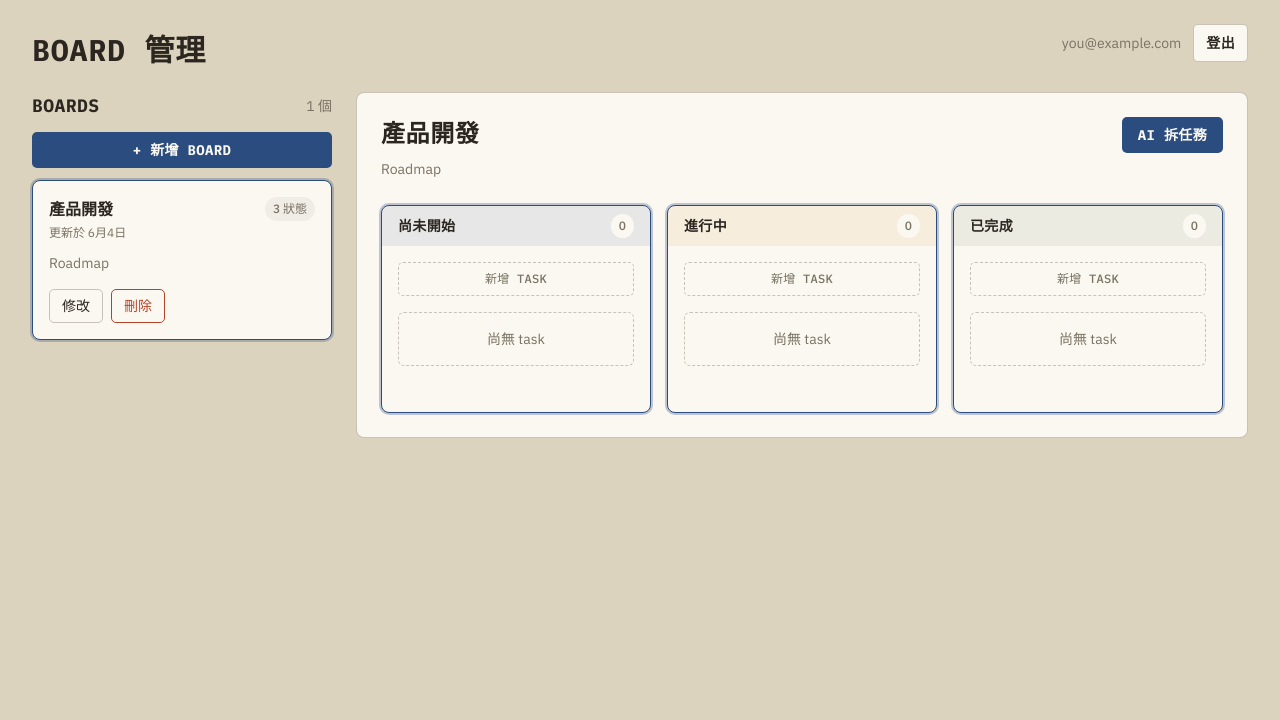
Test: BoardPage integration › updates a board in the UI and local storage
Expected: the 1st heading "產品開發" is shown, 381,117 -> 479,149
Click the button "修改": [76, 306] box 49,289 -> 103,323
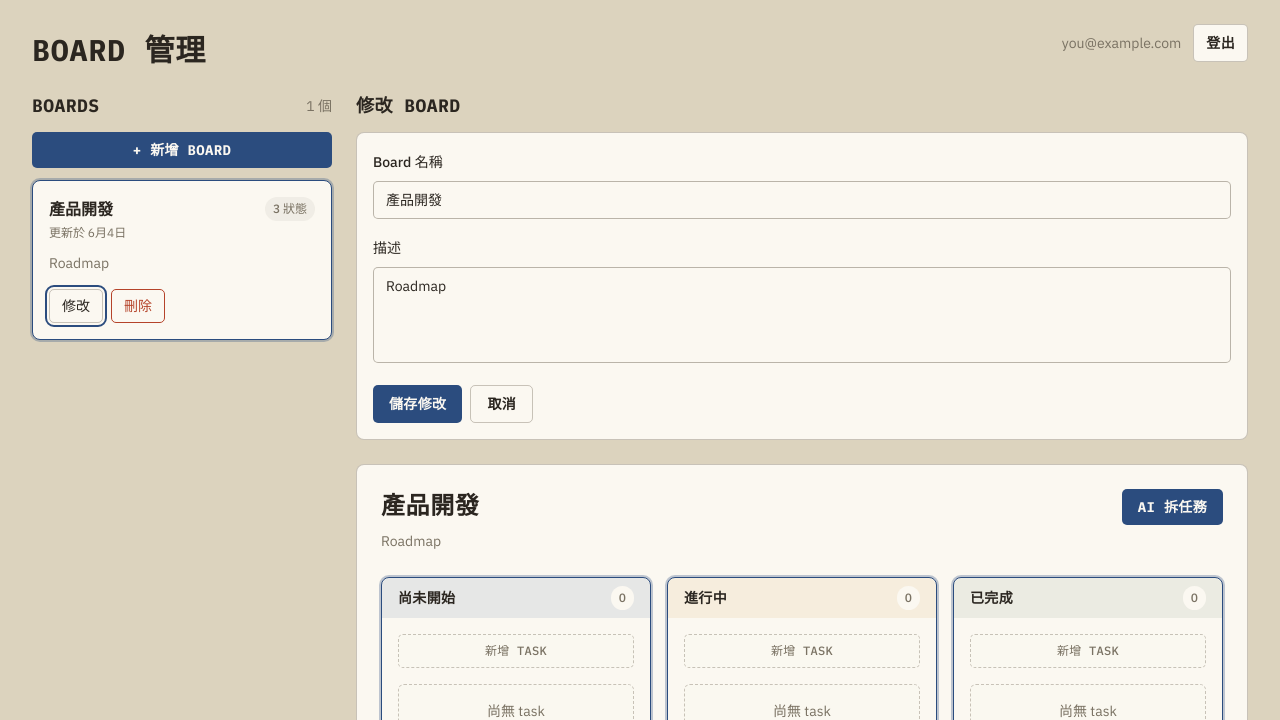
Replace the text in the field labelled "Board 名稱" with "產品開發 v2": [802, 200] box 373,181 -> 1231,219
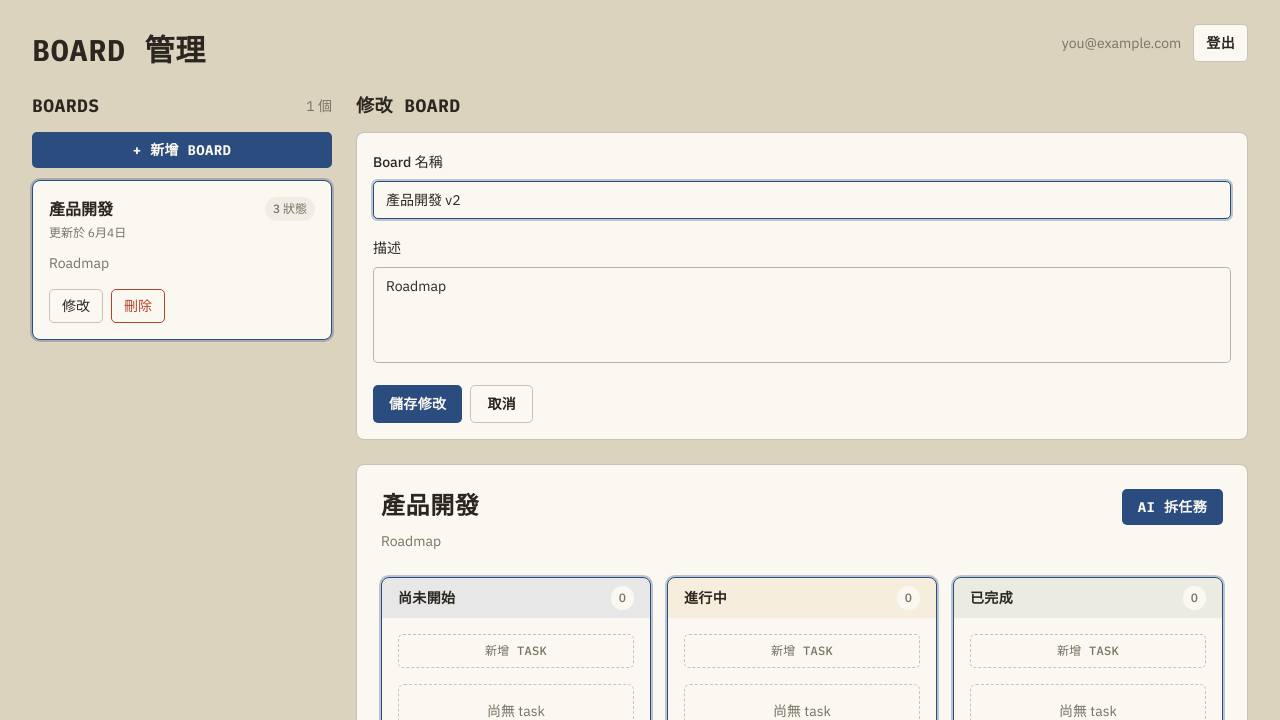
Replace the text in the text box labelled "描述" with "更新後的描述": [802, 315] box 373,267 -> 1231,363
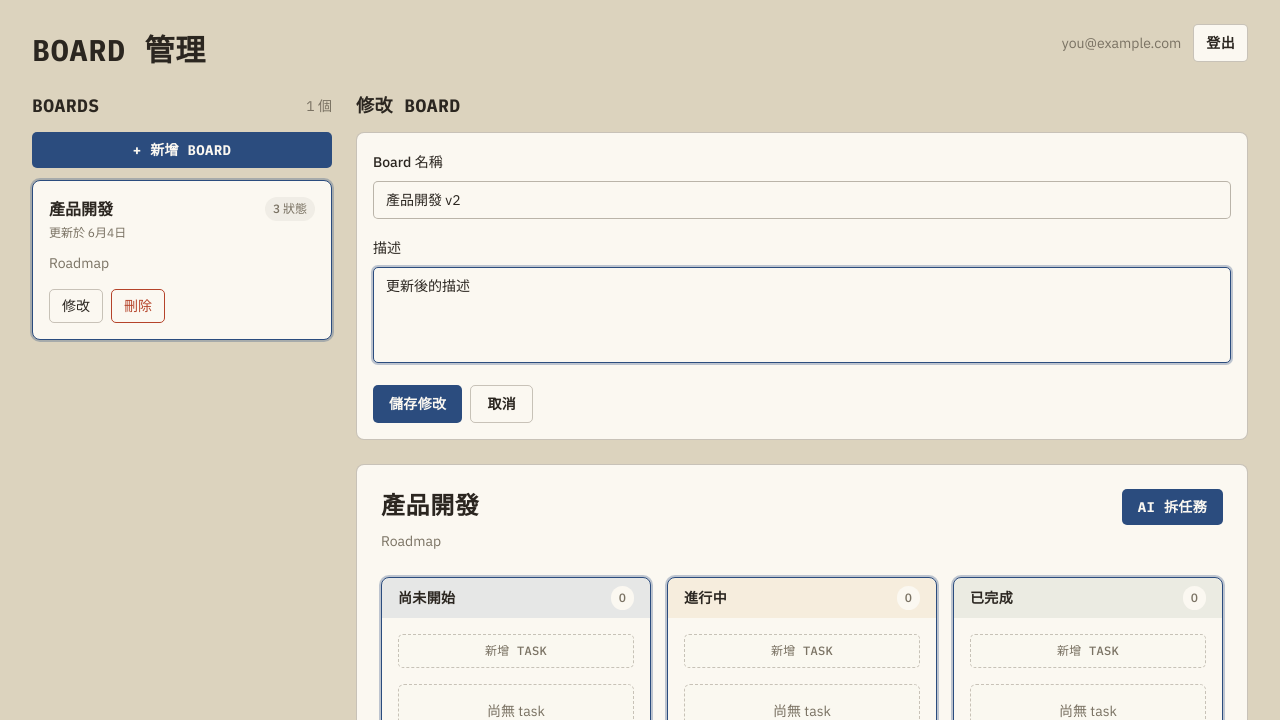
Click the button "儲存修改": [418, 404] box 373,385 -> 462,423
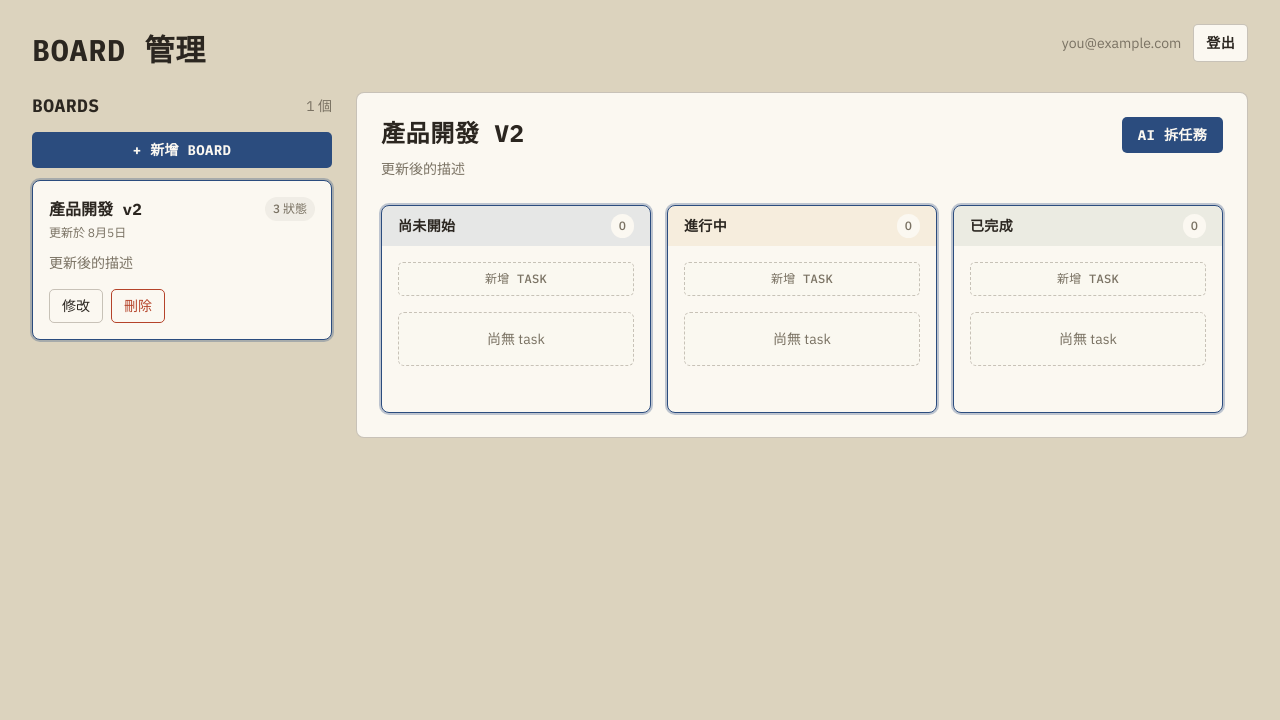
Expected: the text "更新後的描述" is shown 2 times, 49,254 -> 133,272; 381,160 -> 465,178
Now the 1st heading "產品開發 v2" is shown, box 381,117 -> 524,149
